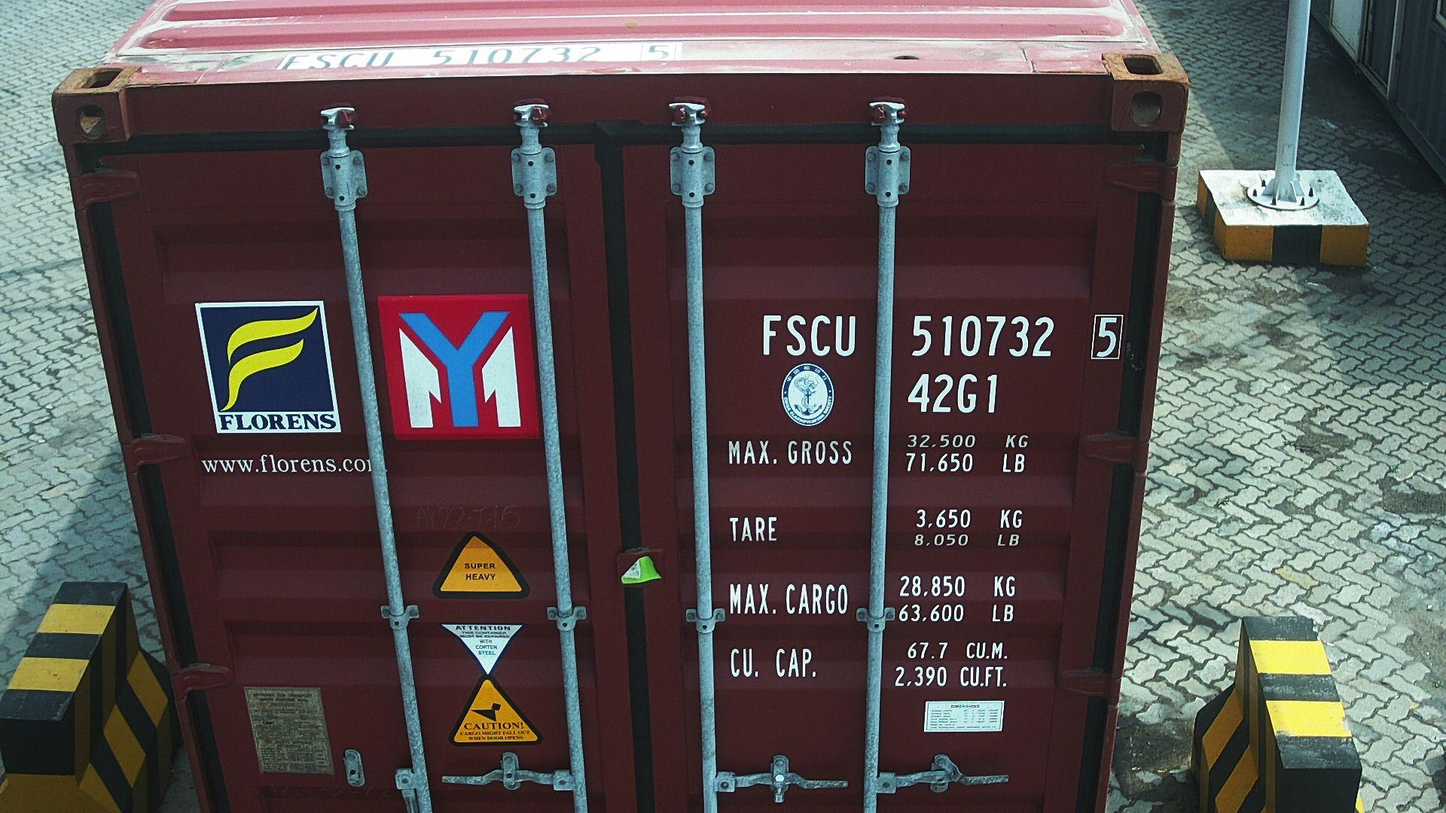container-numbers: (755, 309, 1127, 364), (276, 42, 680, 69), (905, 370, 1003, 416)
